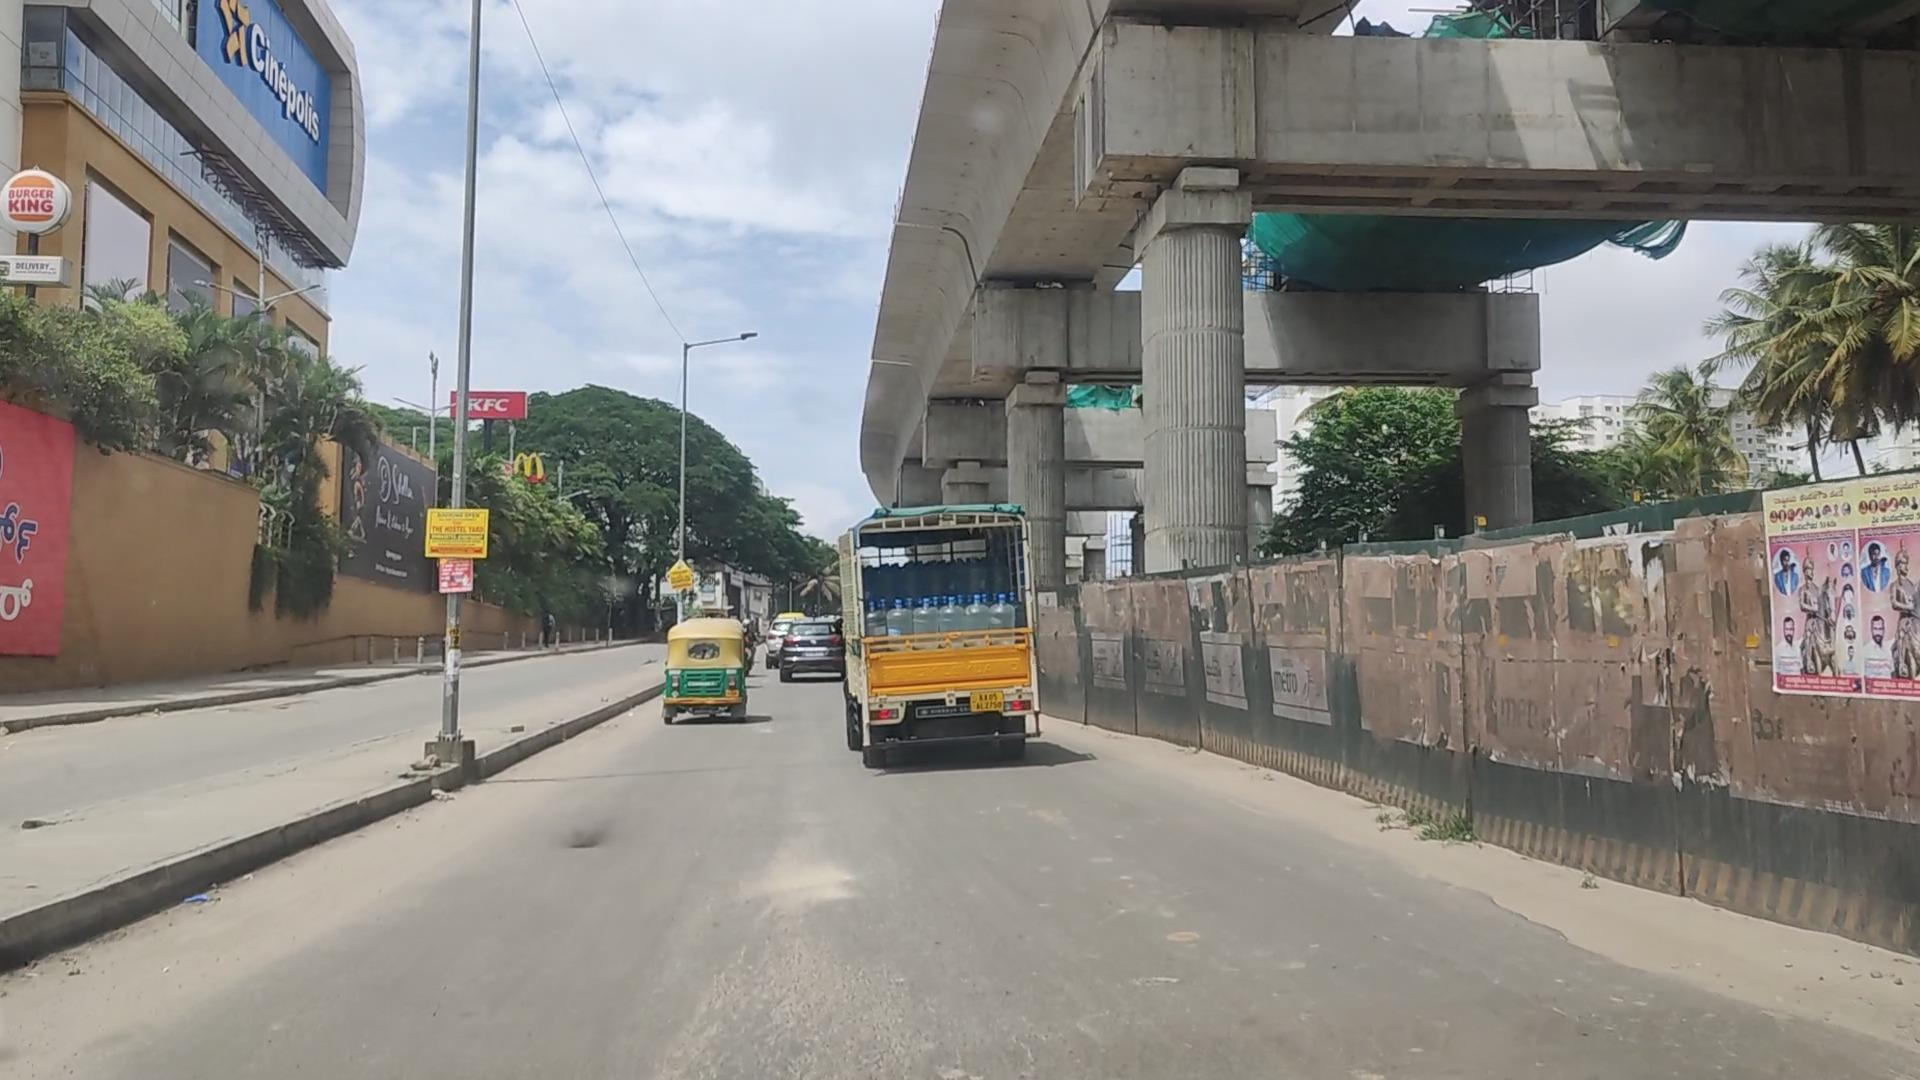HMV: (840, 493, 1052, 779)
LMV: (661, 624, 758, 735)
